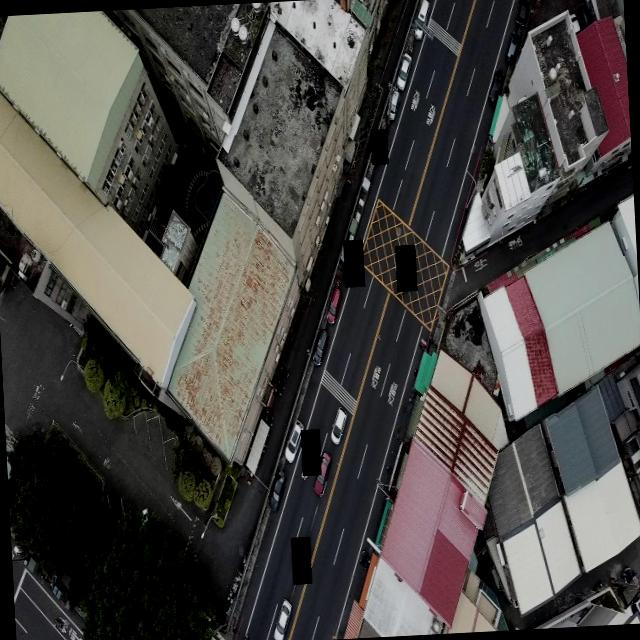bike: (53, 616, 65, 633)
car: (282, 418, 306, 466), (266, 468, 290, 512), (270, 597, 294, 640), (312, 448, 332, 496), (487, 66, 507, 106), (330, 406, 349, 446), (311, 330, 331, 368), (326, 286, 344, 327), (395, 52, 413, 90), (415, 0, 432, 38), (505, 30, 521, 66), (386, 88, 402, 120), (626, 588, 640, 622), (515, 0, 531, 27)
